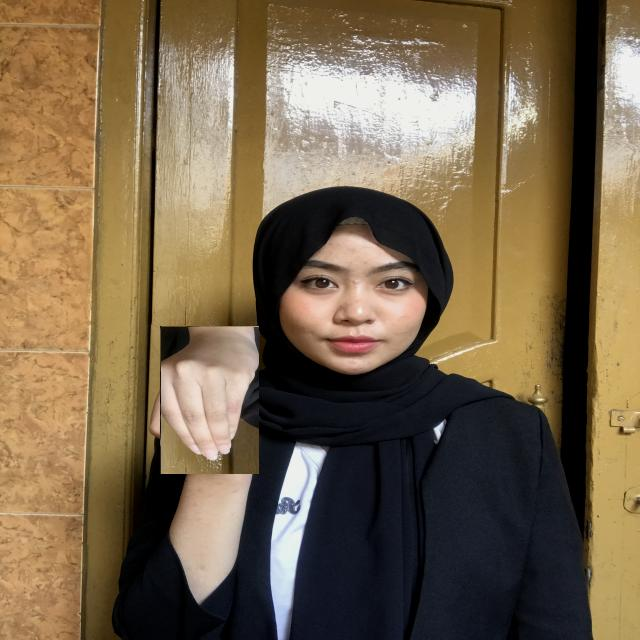kapan: (160, 326, 259, 474)
